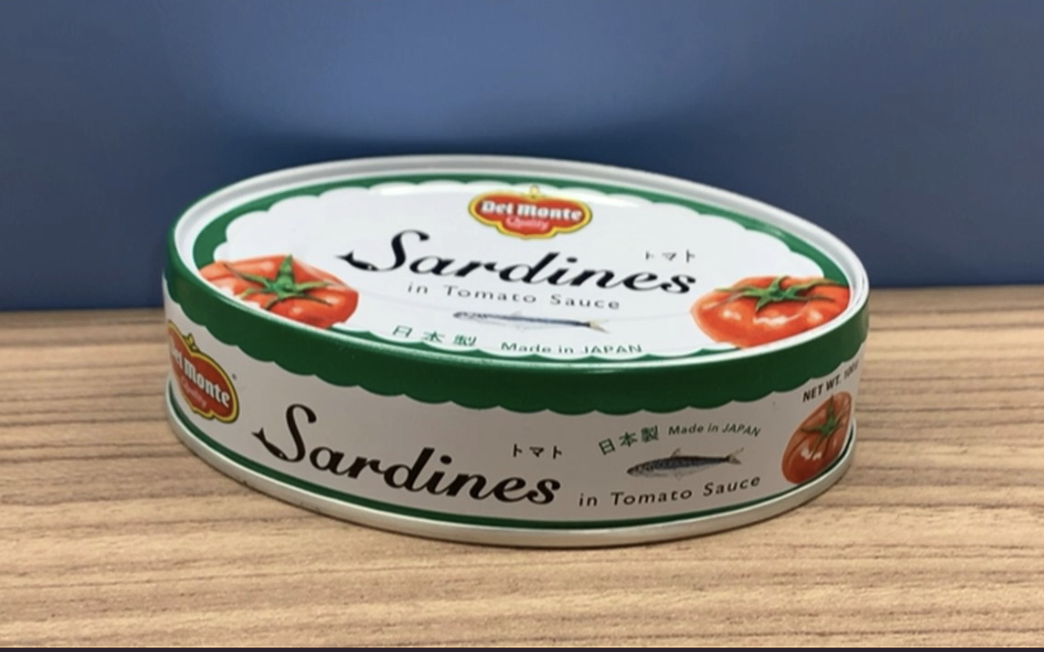sardines_100g-199g: (193, 191, 816, 504)
